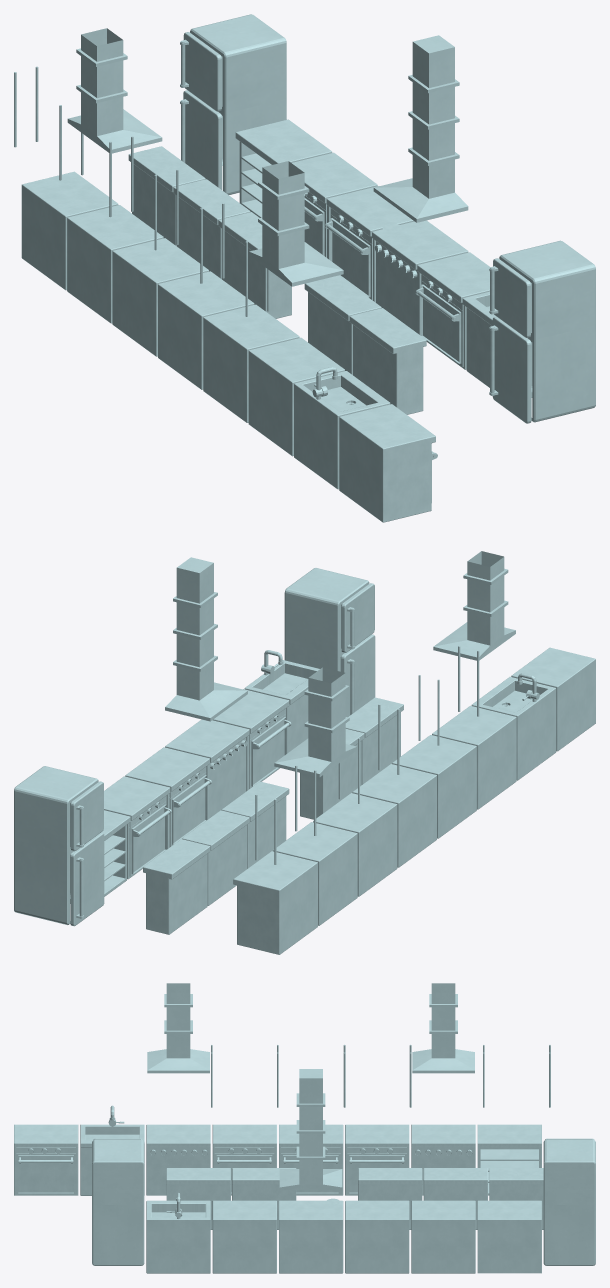
The model's file is resto_ni_teo_12.obj.
The picture shows the model from 3 angles, top to bottom: view 1: azimuth 30°, elevation 25°; view 2: azimuth 150°, elevation 25°; view 3: azimuth 270°, elevation 25°; orthographic projection. The views are drawn at different scales.
Bounding box in the file's own units: 5.13 × 4.81 × 12.99.
